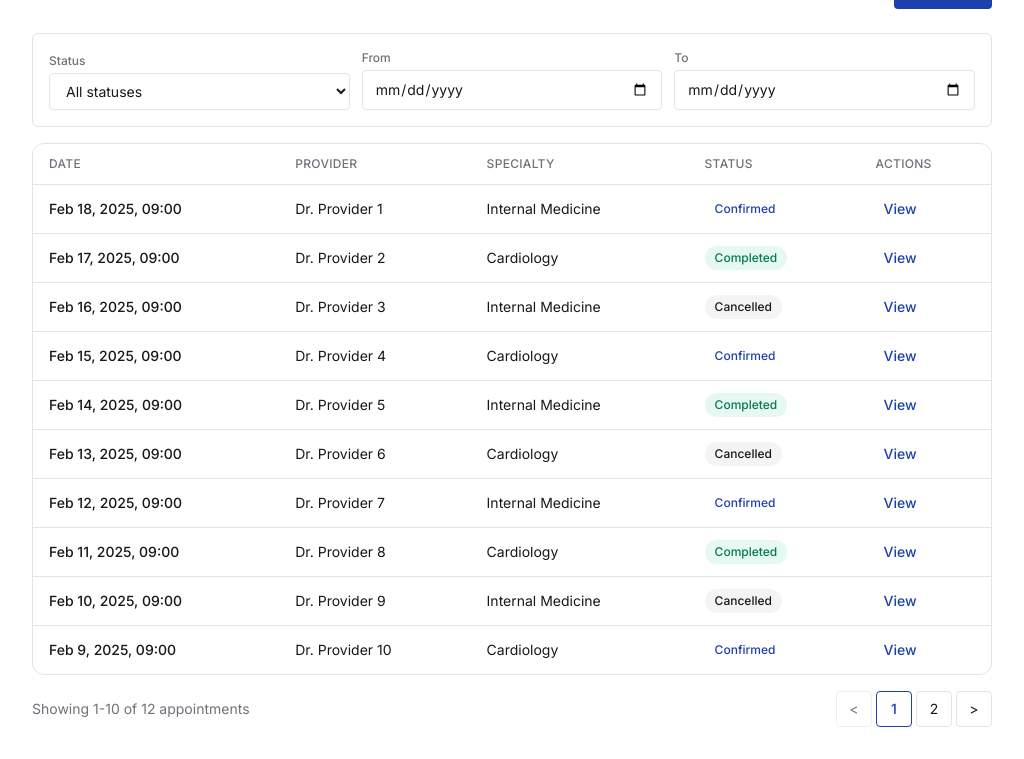
AppointmentHistoryPage › paginates appointments in pages of 10
(page scrolled)
Expected: the text "Showing 1-10 of 12 appointments" is shown, [32,699,250,719]
Click the button "2" at (934, 709), box [916,691,952,727]
(page scrolled)
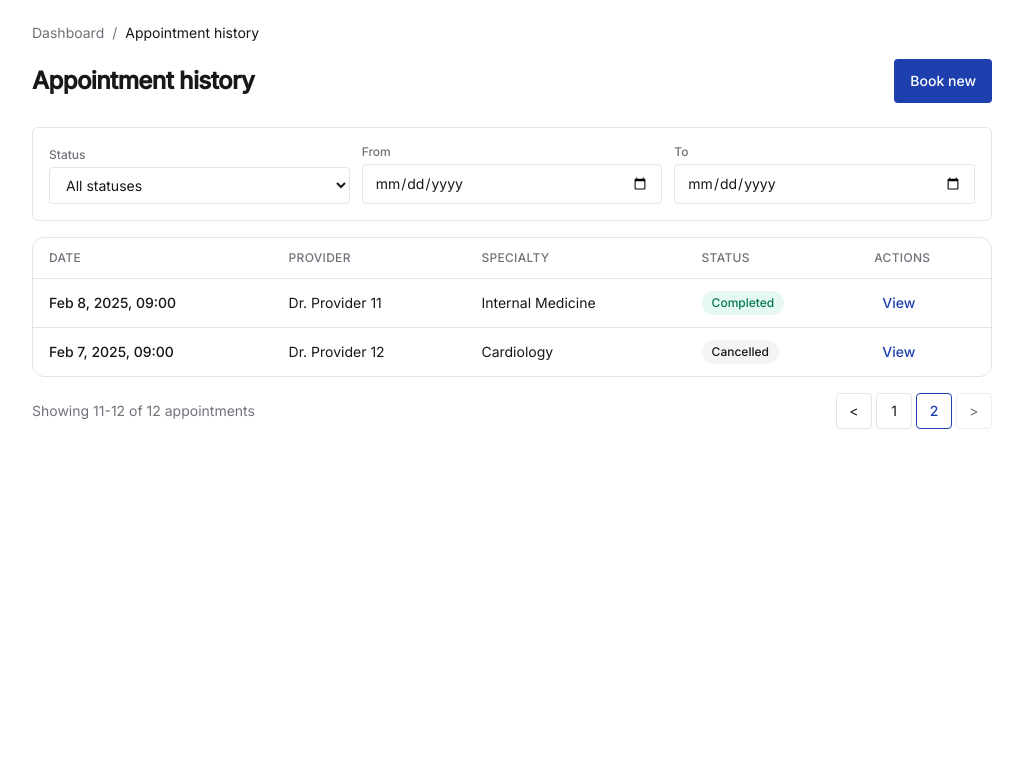
Expected: the text "Showing 11-12 of 12 appointments" is shown, [32,401,255,421]
